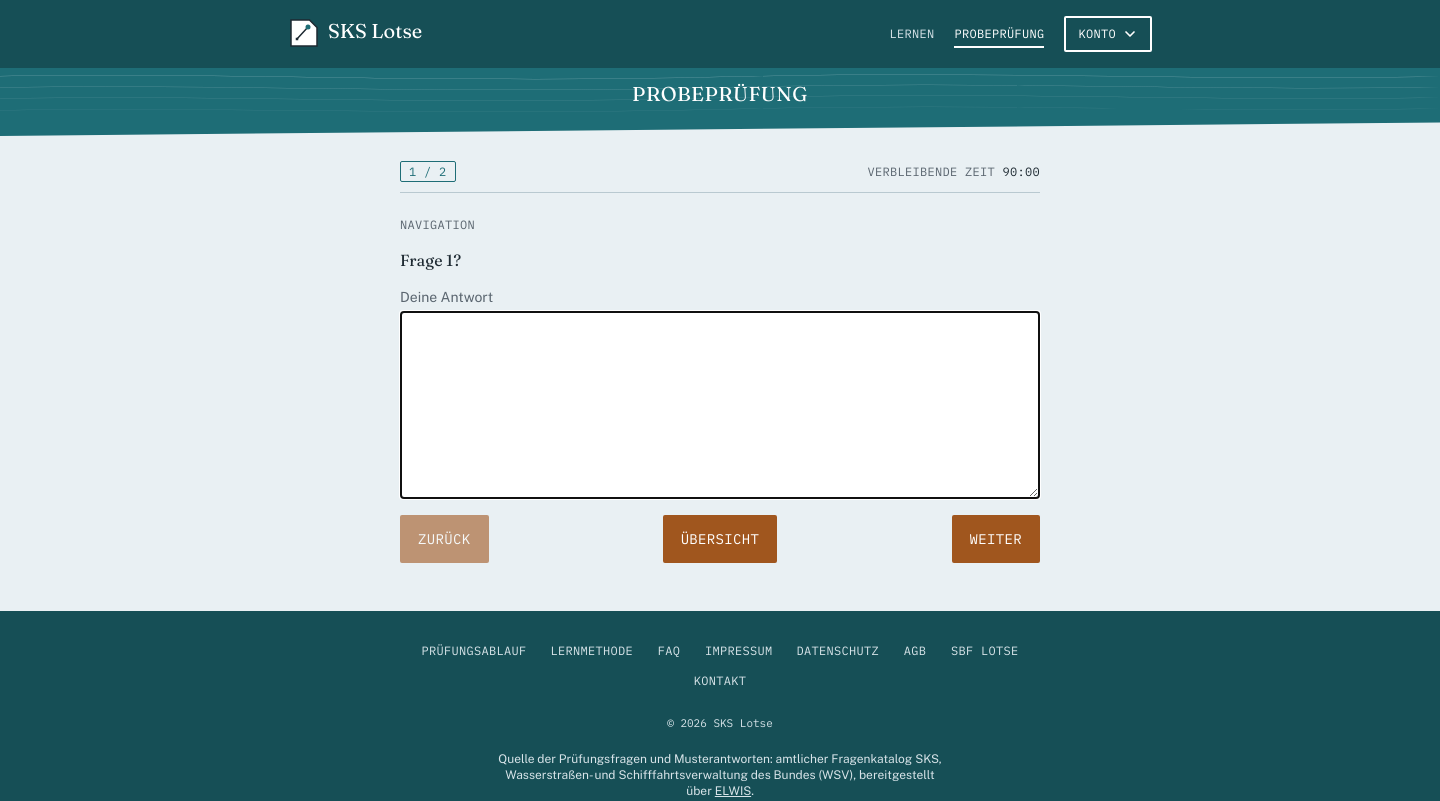
it: ExamRunPage › shows an error when saving fails and reloads when the exam has ended
Expected: the text "Frage 1?" is shown, 400,250 -> 461,270
Type "a" into the text box labelled "Deine Antwort" at [720, 405], box 400,311 -> 1040,499
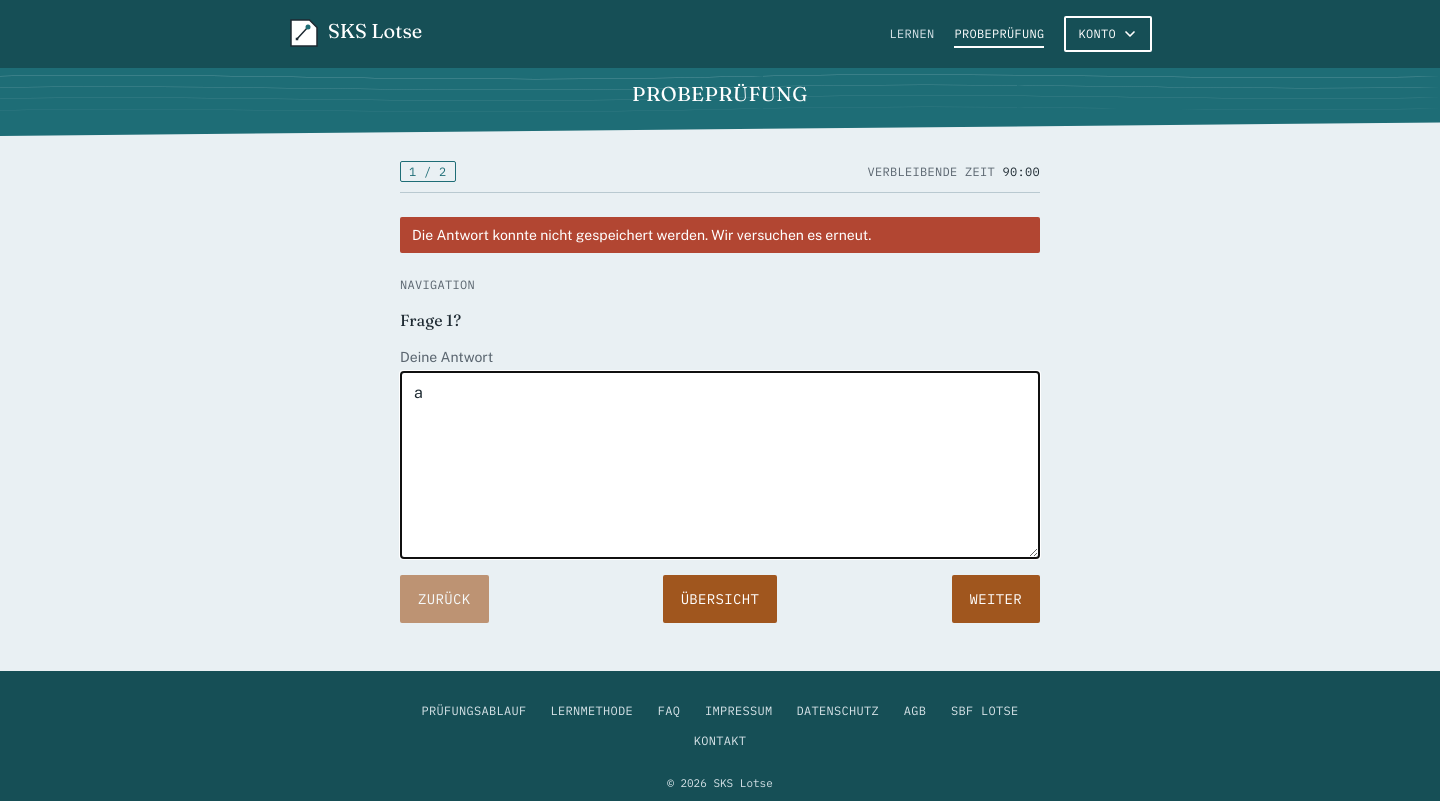
Expected: the message shows "konnte nicht gespeichert werden", 412,227 -> 871,243
Click the button "Weiter" at [996, 599], box 952,575 -> 1040,623
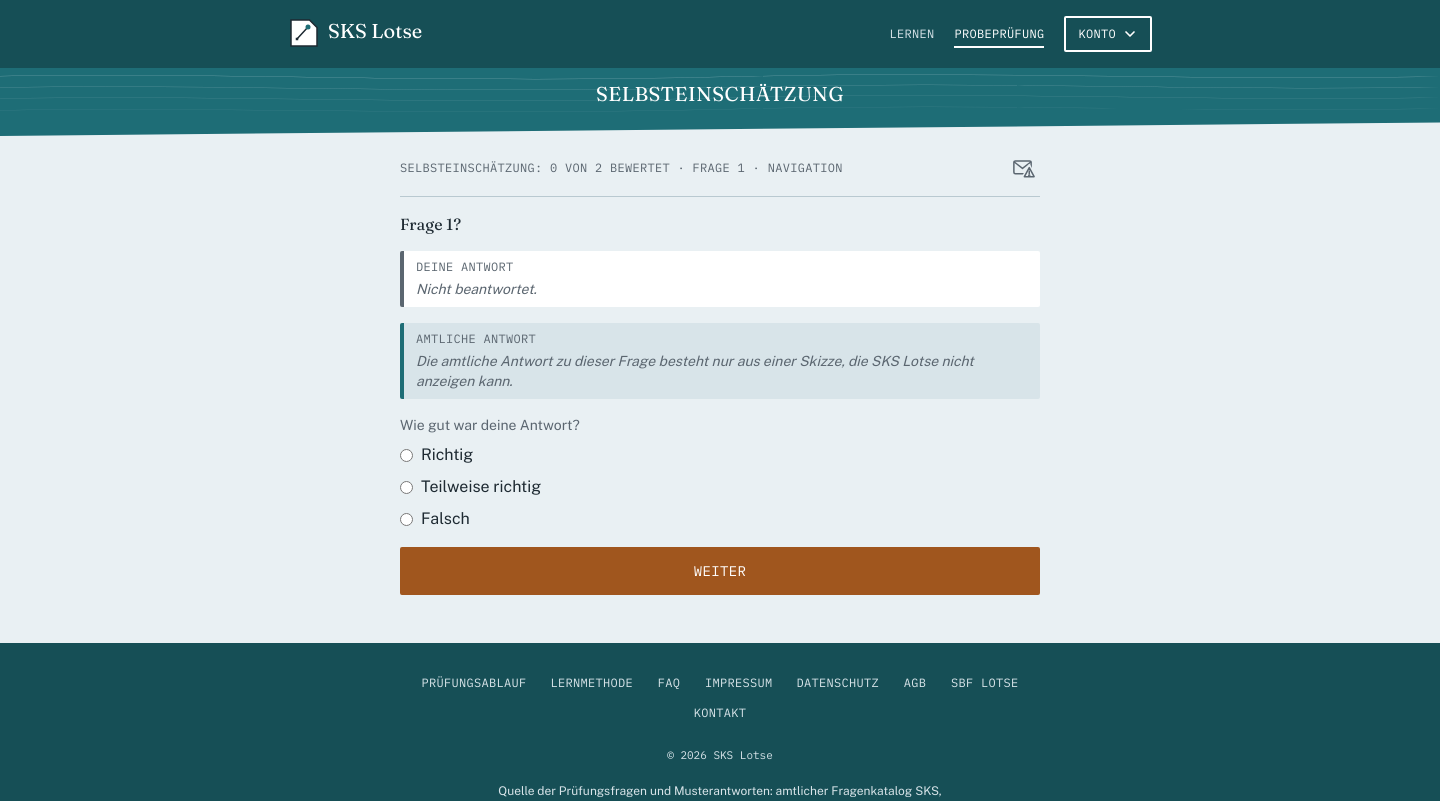
Expected: the heading "Selbsteinschätzung" is shown, 596,81 -> 844,106
